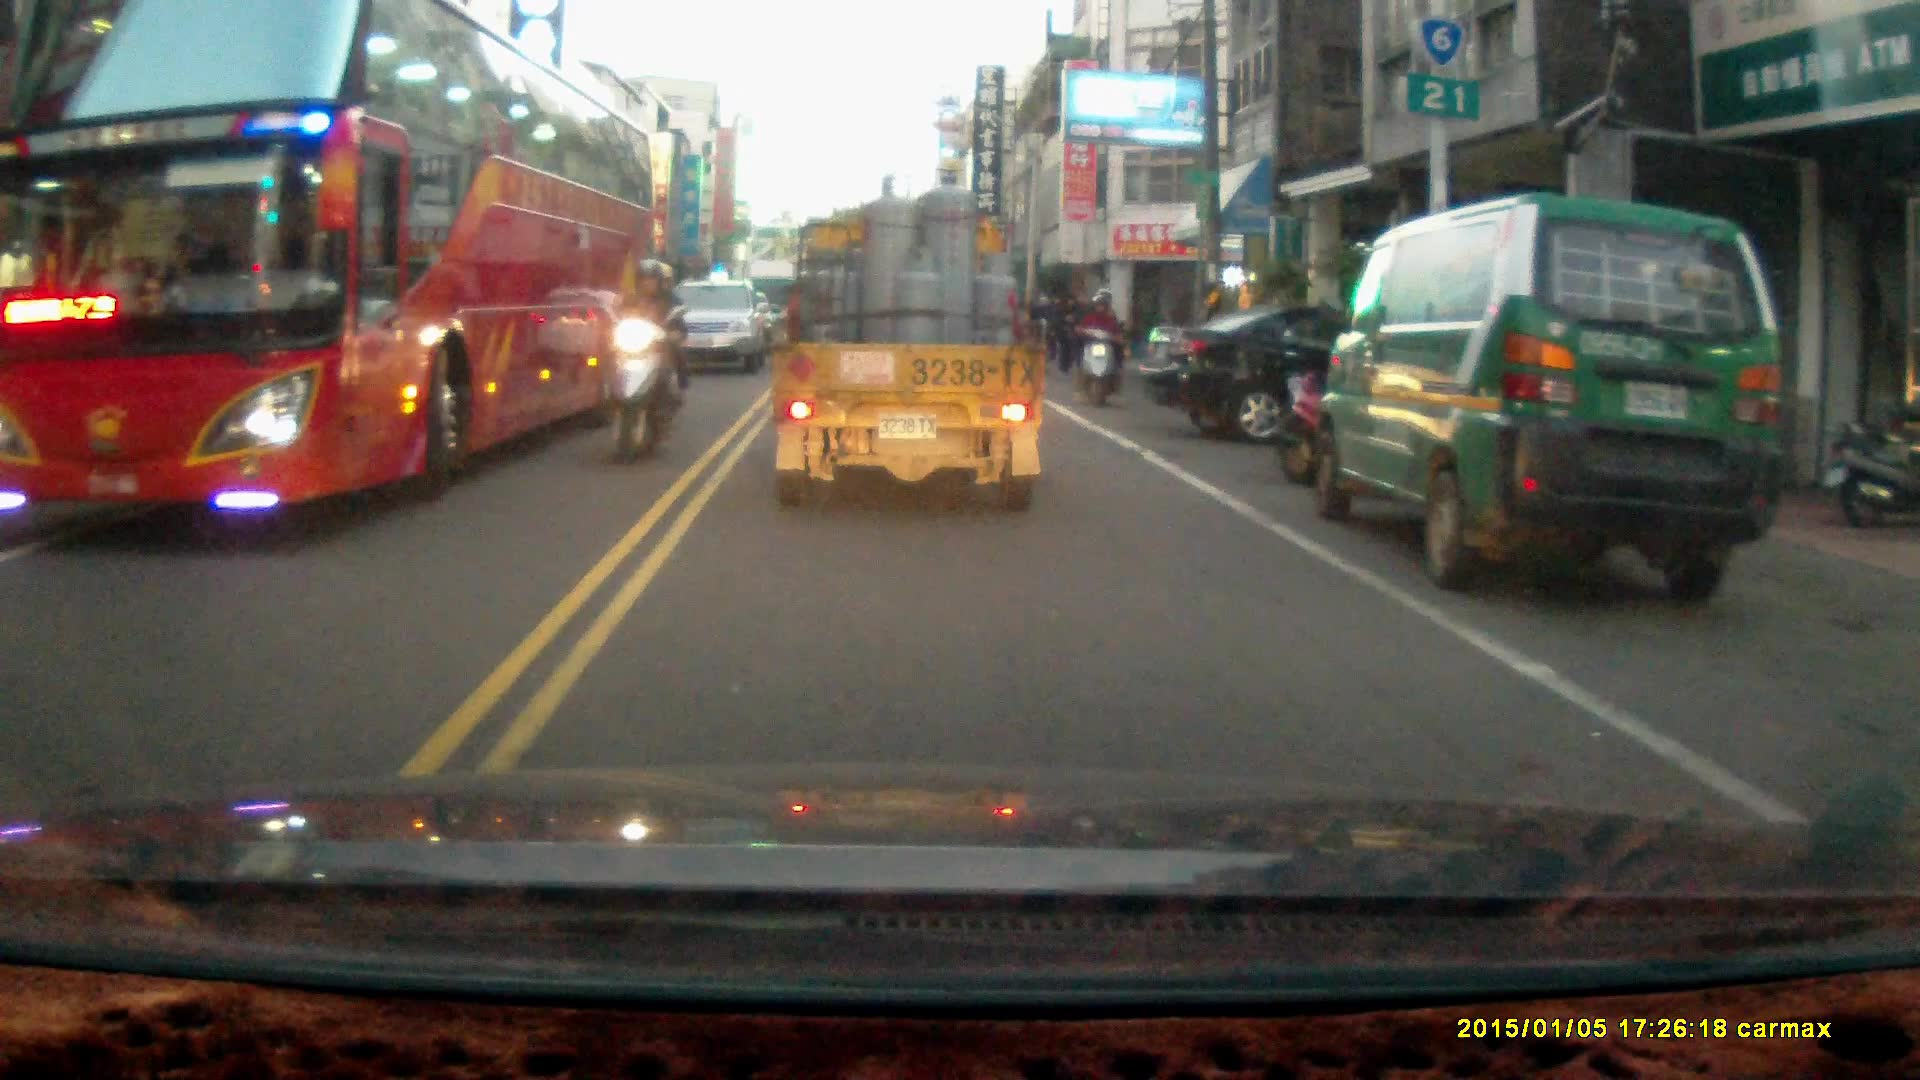pedestrian: (1053, 288, 1079, 376)
rider: (598, 254, 686, 461), (1070, 285, 1126, 406)
vehicle: (2, 10, 653, 539), (1316, 187, 1784, 600), (766, 166, 1051, 514), (1152, 298, 1353, 447), (667, 277, 774, 379)
